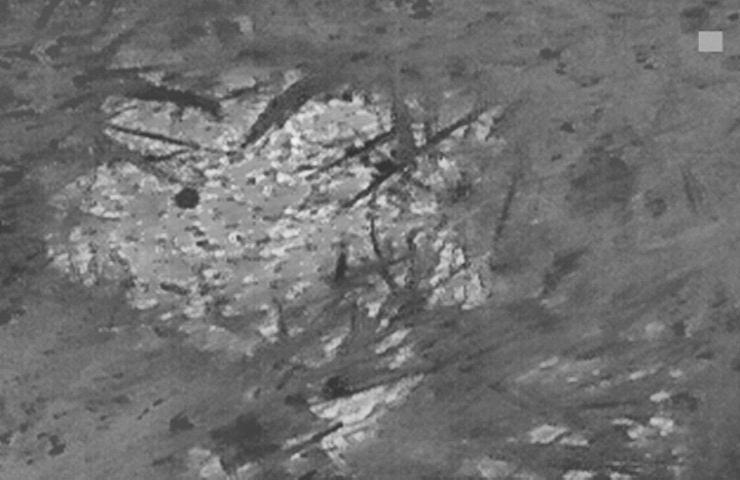landmines: (48, 58, 496, 446)
